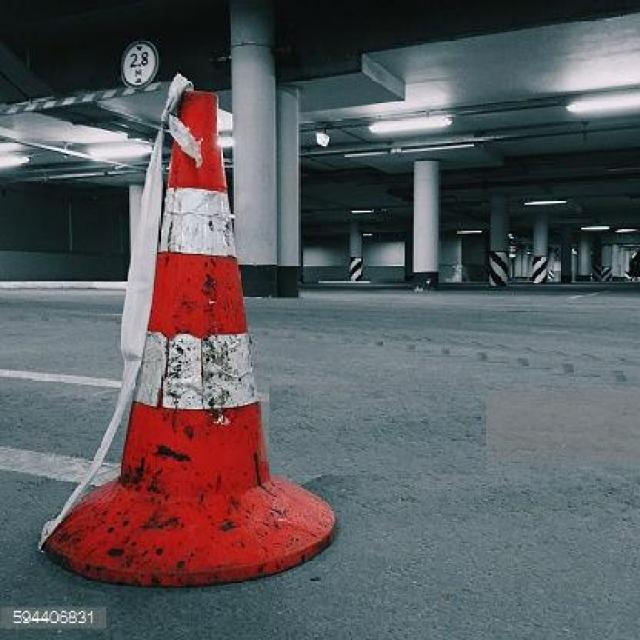Cone: (45, 86, 340, 585)
